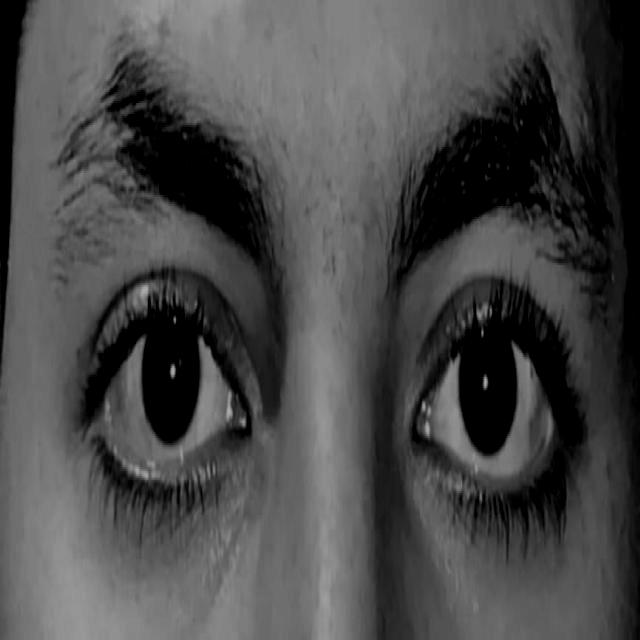real: (42, 128, 615, 574)
